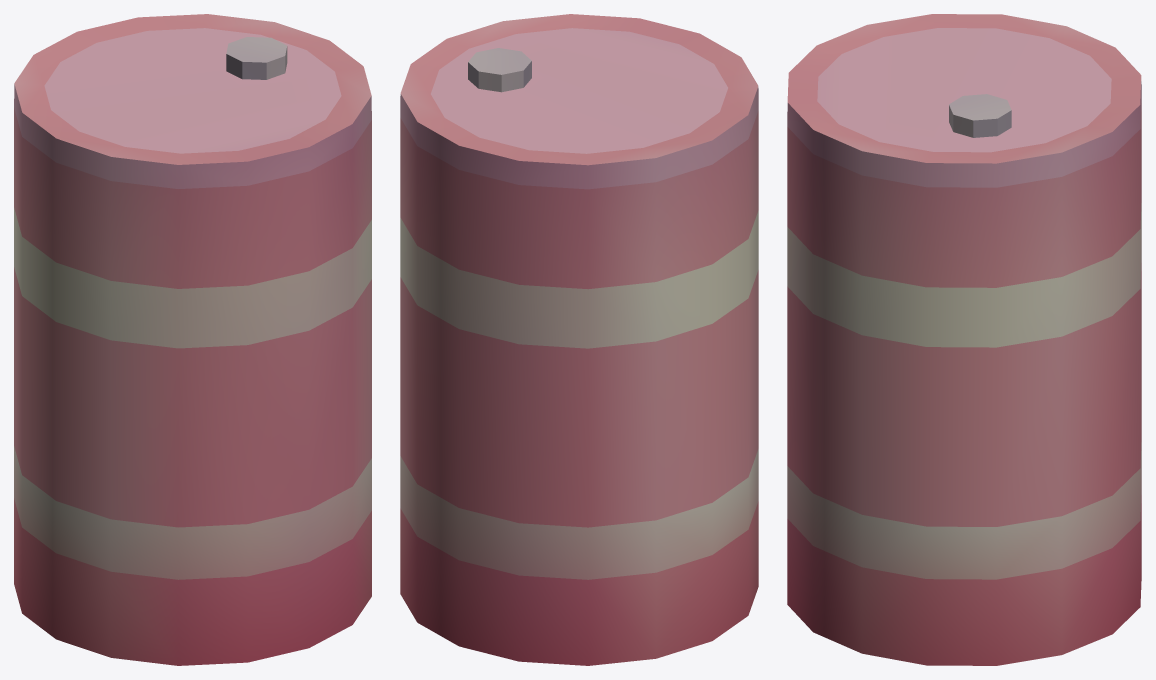
File: tank.glb
3 renders of one model, left to right at view 1: azimuth 30°, elevation 25°; view 2: azimuth 150°, elevation 25°; view 3: azimuth 270°, elevation 25°, orthographic.
Parts seen in each view (by area): view 1: tank; view 2: tank; view 3: tank.
Part boxes in pixels (bbox=[...]): tank: bbox=[14, 14, 371, 665]; tank: bbox=[400, 14, 758, 665]; tank: bbox=[787, 14, 1141, 665].
Bounding box in the file's own units: 0.7554 × 1.22 × 0.7554.
